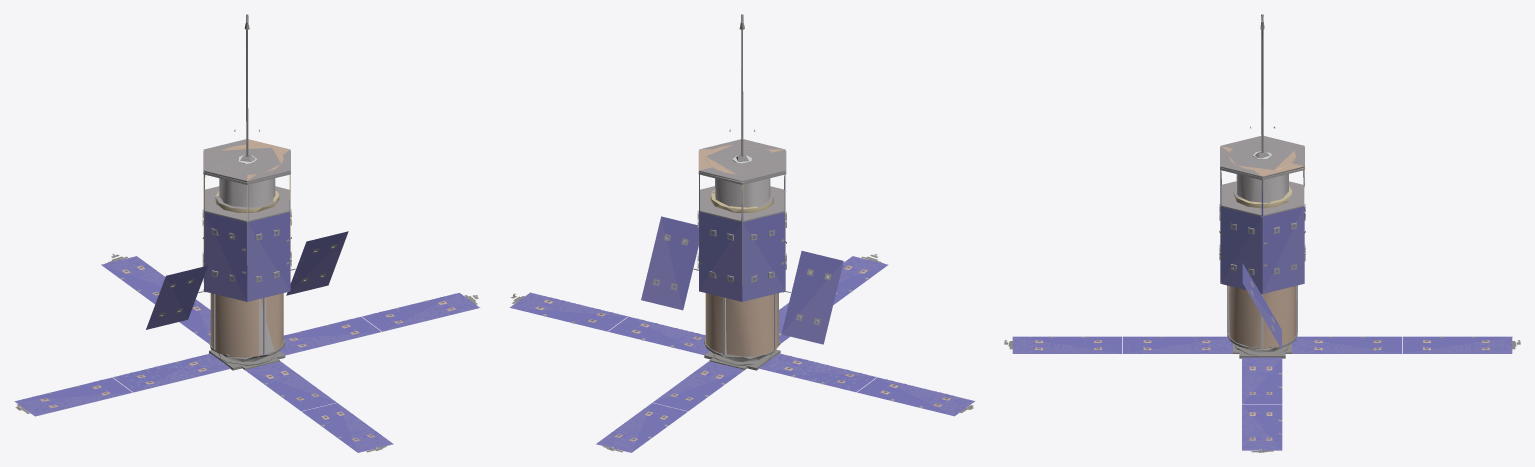
Rendered from tselina2.glb.
3 renders of one model, left to right at view 1: azimuth 30°, elevation 25°; view 2: azimuth 150°, elevation 25°; view 3: azimuth 270°, elevation 25°, orthographic. The views are drawn at different scales.
Visible parts, largest first — view 1: solar-panel, body; view 2: solar-panel, body; view 3: solar-panel, body.
Boxes of the visible parts, bbox=[...] form: solar-panel: bbox=[14, 186, 479, 452]; body: bbox=[15, 14, 478, 452]; solar-panel: bbox=[510, 175, 974, 452]; body: bbox=[510, 14, 973, 452]; solar-panel: bbox=[1012, 174, 1512, 450]; body: bbox=[1004, 14, 1520, 452].
Bounding box in the file's own units: 46.64 × 33.4 × 46.64.
